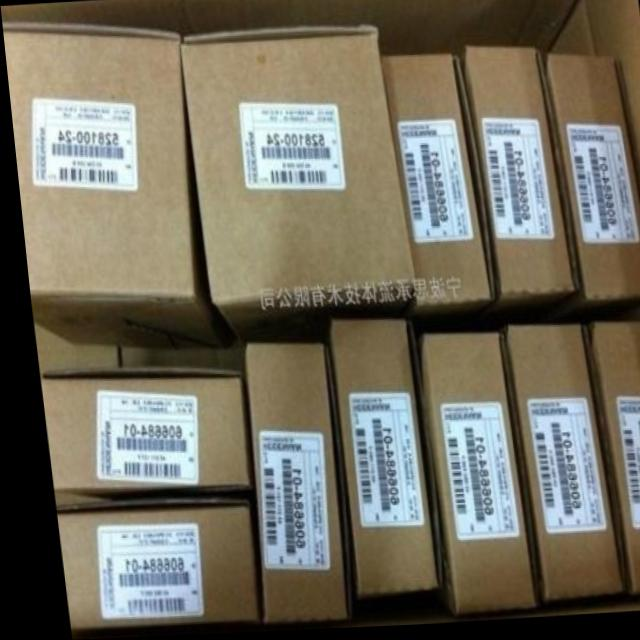box: (178, 31, 409, 305), (2, 22, 190, 301), (412, 337, 522, 617), (497, 329, 608, 603), (461, 50, 573, 302), (322, 323, 423, 596), (235, 345, 333, 624), (379, 59, 488, 309), (33, 368, 239, 496), (46, 499, 244, 627), (543, 59, 640, 306), (581, 326, 640, 598)
